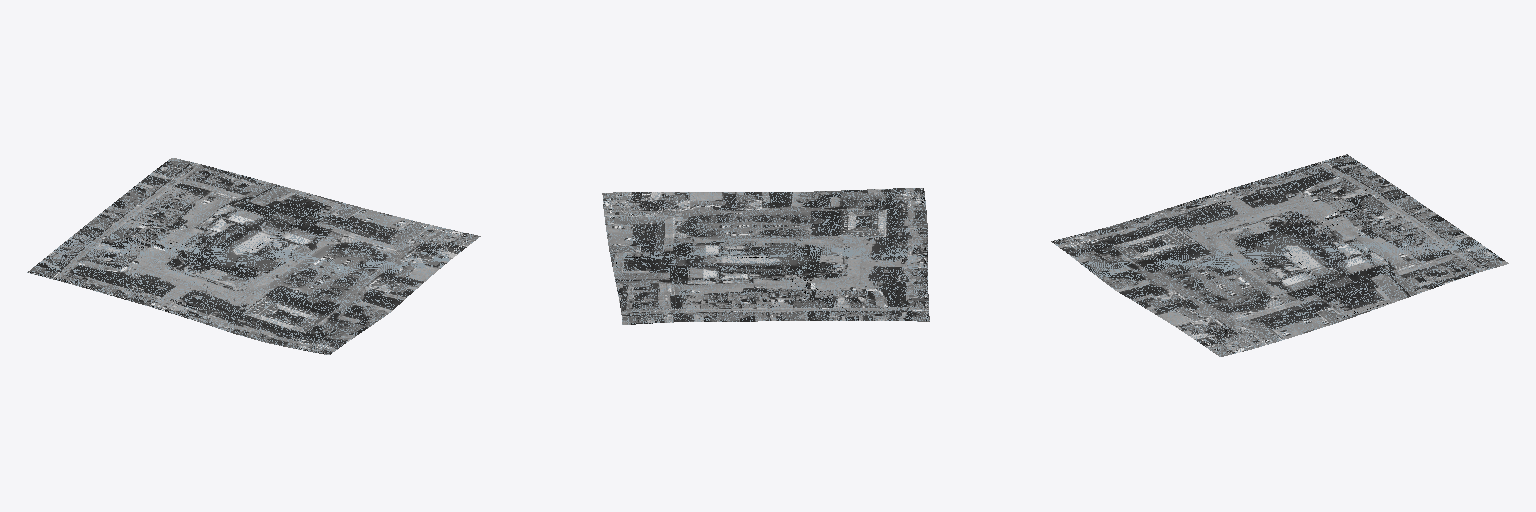
3 views of the same model, side by side, from view 1: azimuth 30°, elevation 25°; view 2: azimuth 150°, elevation 25°; view 3: azimuth 270°, elevation 25° (orthographic).
Parts seen in each view (by area): view 1: Mesh1 Sol Model; view 2: Mesh1 Sol Model; view 3: Mesh1 Sol Model.
Boxes of the visible parts, box(x1,y1,x2,y2) form: Mesh1 Sol Model: box(27, 158, 480, 354); Mesh1 Sol Model: box(602, 188, 929, 324); Mesh1 Sol Model: box(1051, 154, 1508, 356).
Size of the model in its own units: 284 by 12.6 by 289.
Materials: 2 (1 with a texture image).